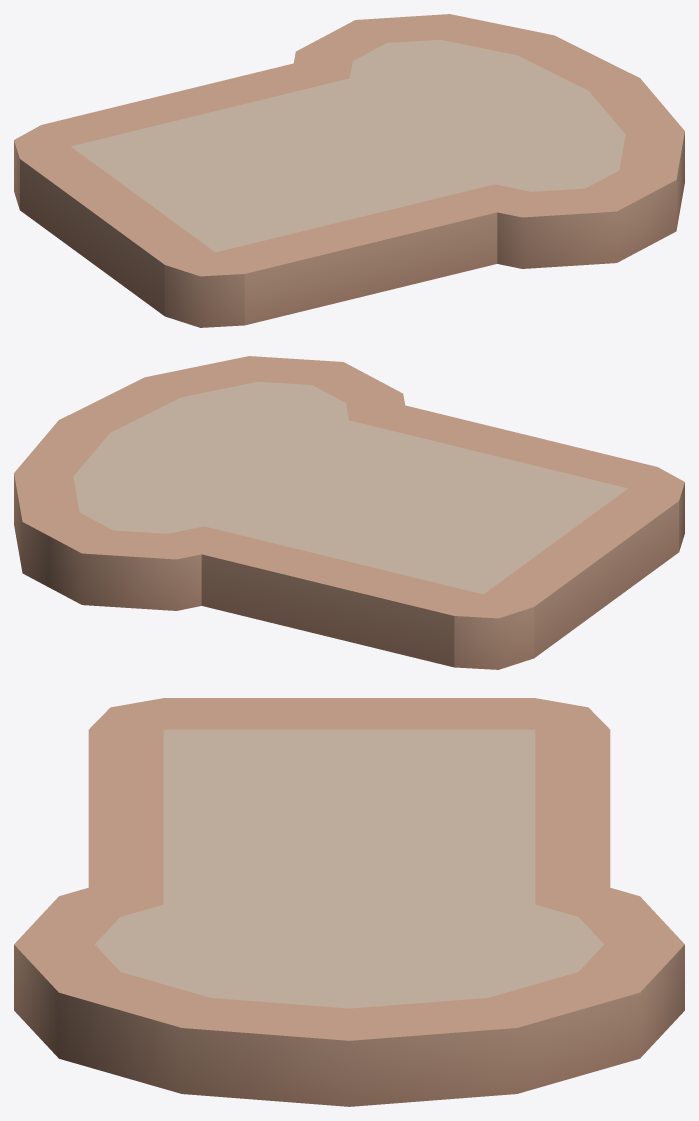
Rendered from bread.glb.
The picture shows the model from 3 angles, top to bottom: view 1: azimuth 30°, elevation 25°; view 2: azimuth 150°, elevation 25°; view 3: azimuth 270°, elevation 25°; orthographic projection. The views are drawn at different scales.
Visible parts, largest first — view 1: bread; view 2: bread; view 3: bread.
Part boxes in pixels (x1,y1,x2,y2): bread: (14,14,684,327); bread: (14,356,684,669); bread: (14,698,684,1106).
Bounding box in the file's own units: 0.4423 × 0.0397 × 0.3659.
